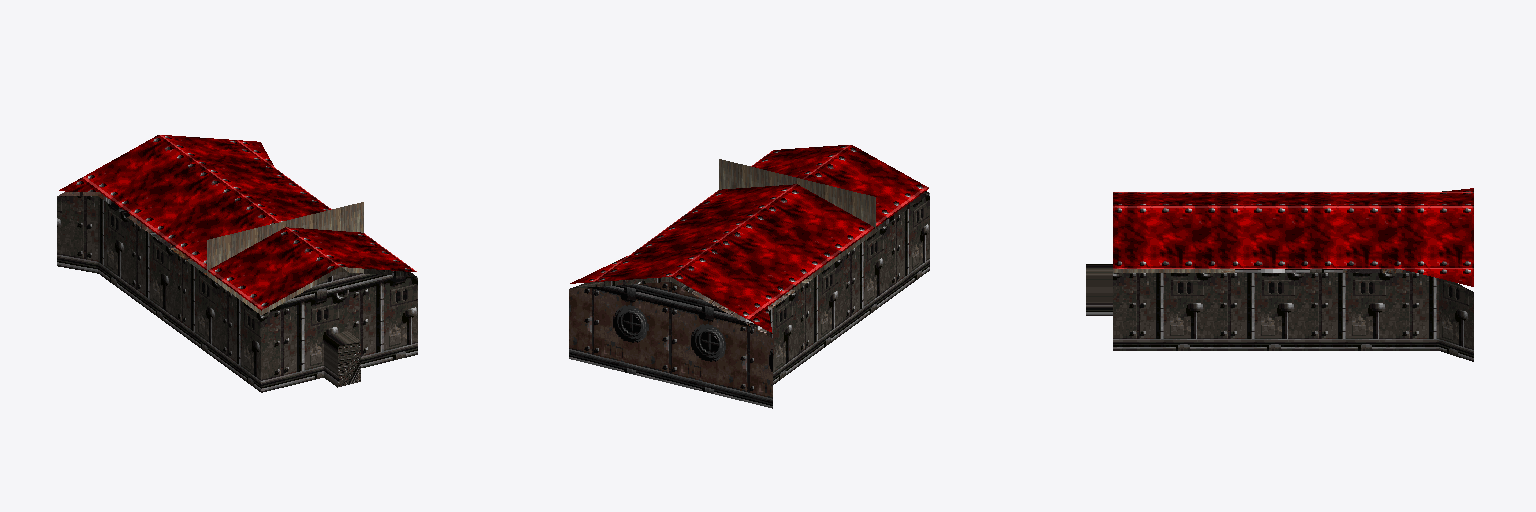
3 views of the same model, side by side, from view 1: azimuth 30°, elevation 25°; view 2: azimuth 150°, elevation 25°; view 3: azimuth 270°, elevation 25° (orthographic).
Visible parts, largest first — view 1: Stone#Stone, Wall1#IgnoreProjectiles; view 2: Stone#Stone, Wall1#IgnoreProjectiles; view 3: Stone#Stone.
Part boxes in pixels (left/top/right/bottom): Stone#Stone: left=57, top=135, right=417, bottom=392; Wall1#IgnoreProjectiles: left=207, top=202, right=363, bottom=314; Stone#Stone: left=569, top=145, right=929, bottom=408; Wall1#IgnoreProjectiles: left=719, top=159, right=875, bottom=290; Stone#Stone: left=1086, top=188, right=1473, bottom=361.
Size of the model in its own units: 520 by 277 by 860.
Materials: 12 (9 with a texture image).